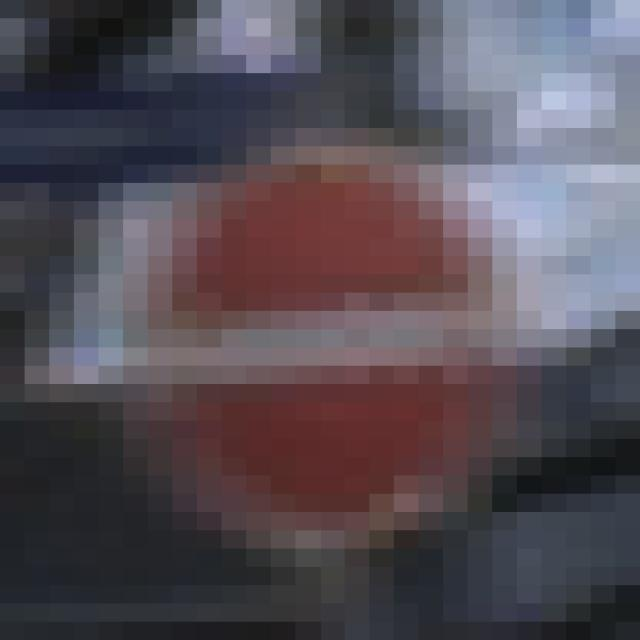No Entry: (124, 111, 518, 550)
